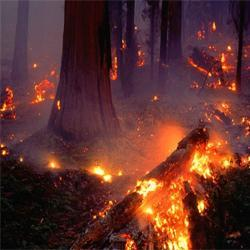fire: (138, 184, 192, 246), (190, 136, 229, 173), (93, 164, 113, 183), (34, 81, 52, 101)
